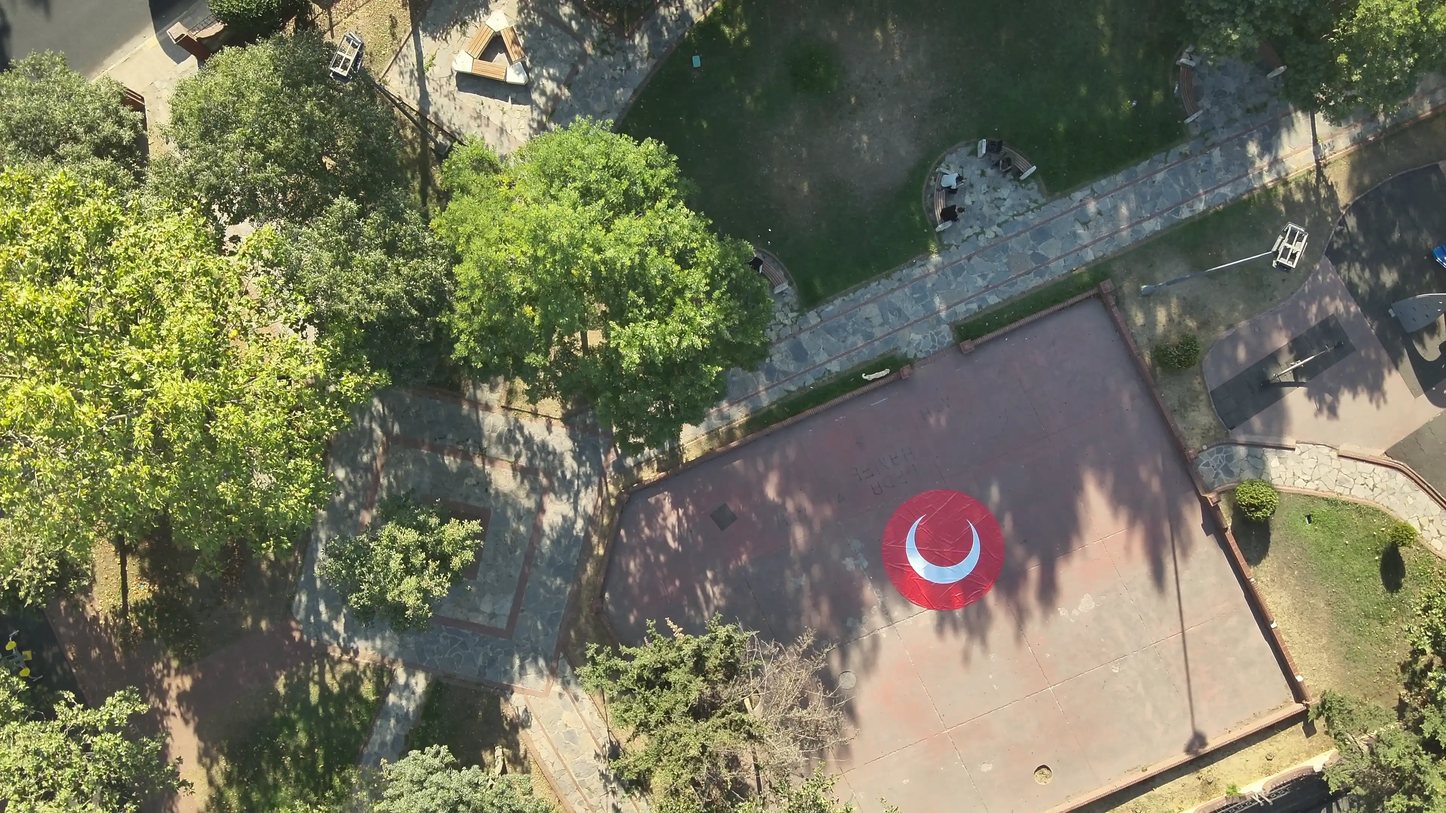person: (938, 166, 974, 196), (936, 202, 972, 227)
